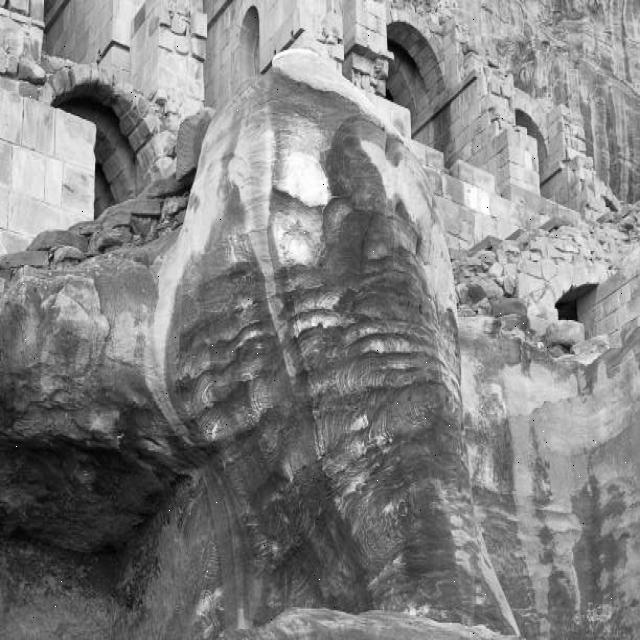Sedimentary: (3, 42, 640, 636)
